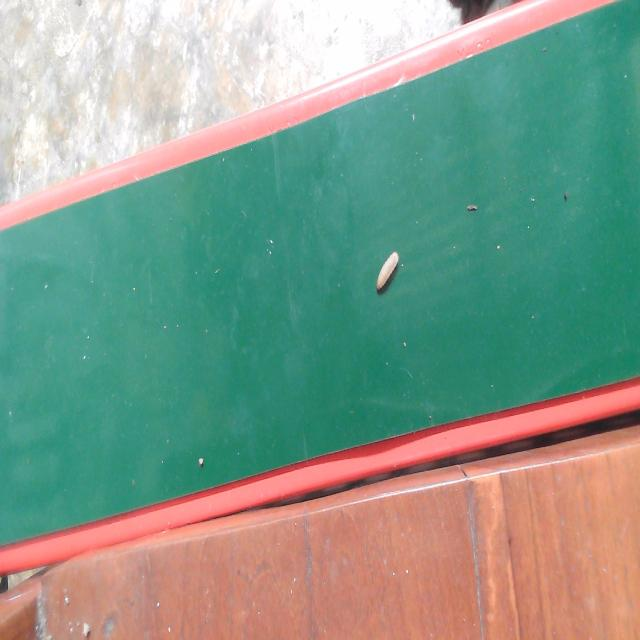Maggot: (375, 251, 401, 297)
